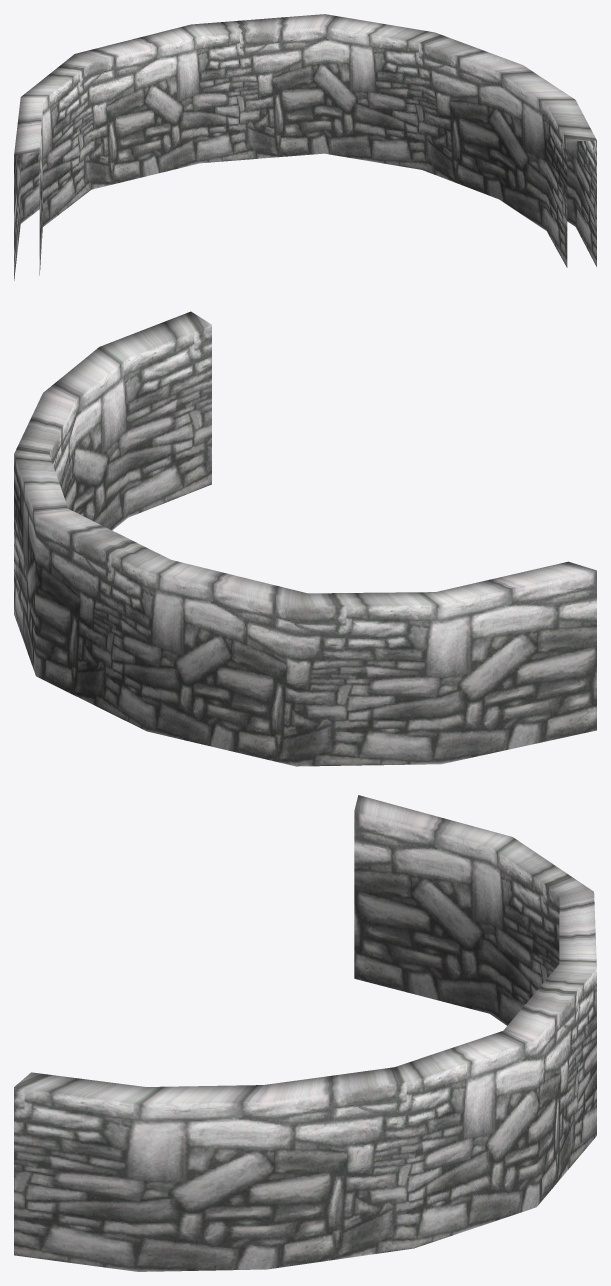
File: HTOWN01_BAGENDTERRACE3.fbx
3 views of the same model, one above another, from view 1: azimuth 30°, elevation 25°; view 2: azimuth 150°, elevation 25°; view 3: azimuth 270°, elevation 25° (orthographic). The views are drawn at different scales.
Parts seen in each view (by area): view 1: HTOWN01_BAGENDTERRACE3; view 2: HTOWN01_BAGENDTERRACE3; view 3: HTOWN01_BAGENDTERRACE3.
Part boxes in pixels (<box>): HTOWN01_BAGENDTERRACE3: <box>14,14,596,280</box>; HTOWN01_BAGENDTERRACE3: <box>14,311,596,766</box>; HTOWN01_BAGENDTERRACE3: <box>14,795,596,1271</box>.
Bounding box in the file's own units: 44543 × 11308 × 35534.
Materials: 1 (1 with a texture image).
